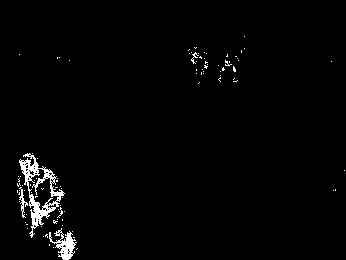person: (18, 153, 75, 260)
